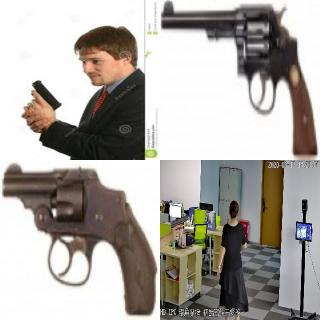gun: (162, 0, 318, 156), (2, 162, 154, 318), (24, 78, 62, 114), (170, 213, 188, 244)
